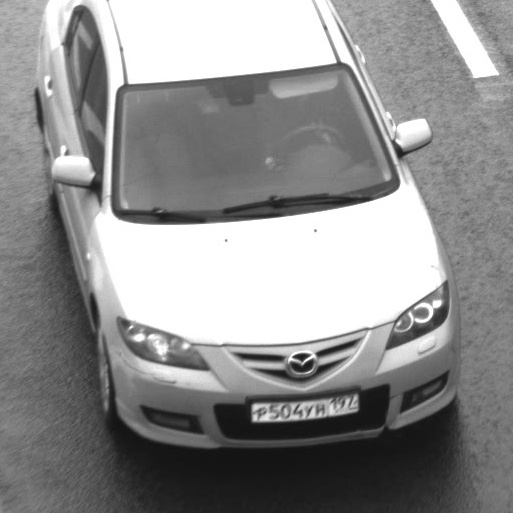plate: (241, 386, 367, 431)
